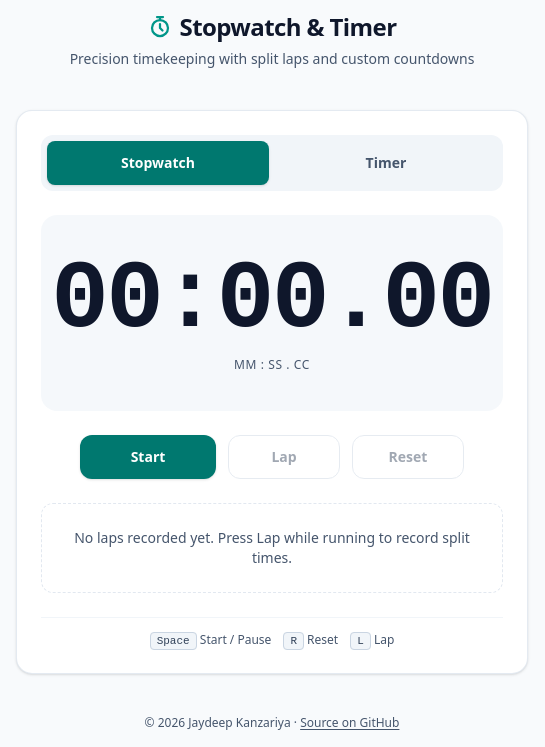
Scenario: stopwatch › records laps newest first and clears them on reset
Click the button "Start": (148, 457) [80,435,216,479]
Wait 1000 ms
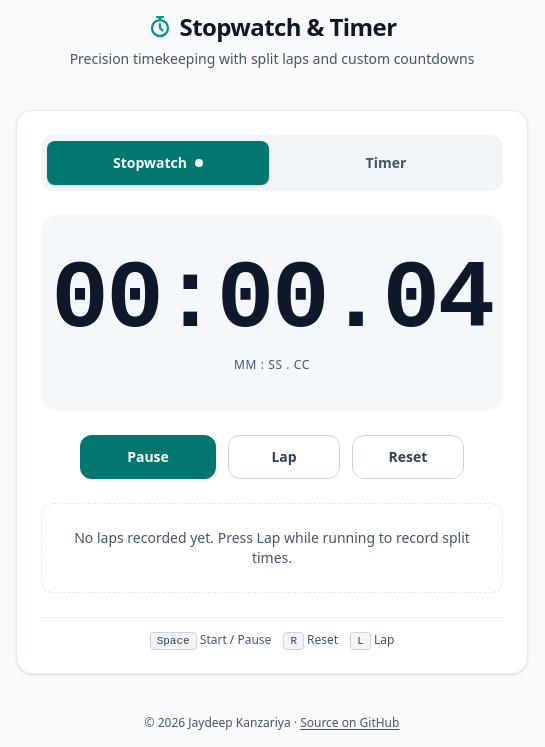
Click the button "Lap": (284, 457) [228,435,340,479]
Wait 2000 ms
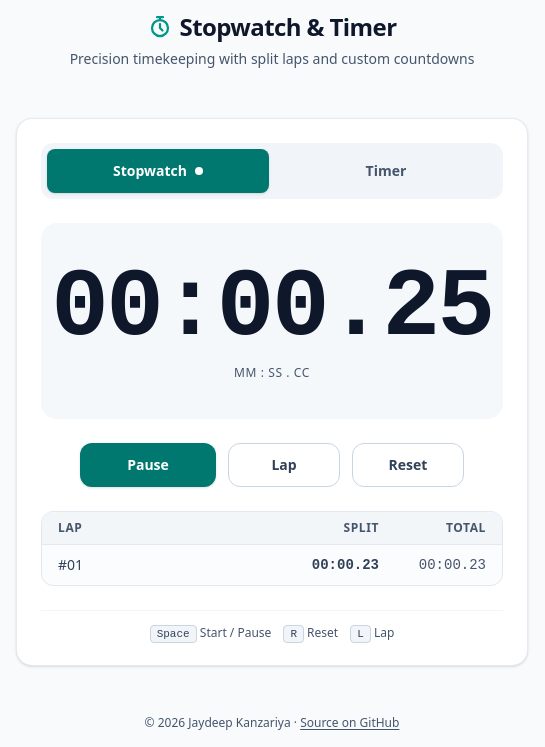
Click the button "Lap": (284, 465) [228,443,340,487]
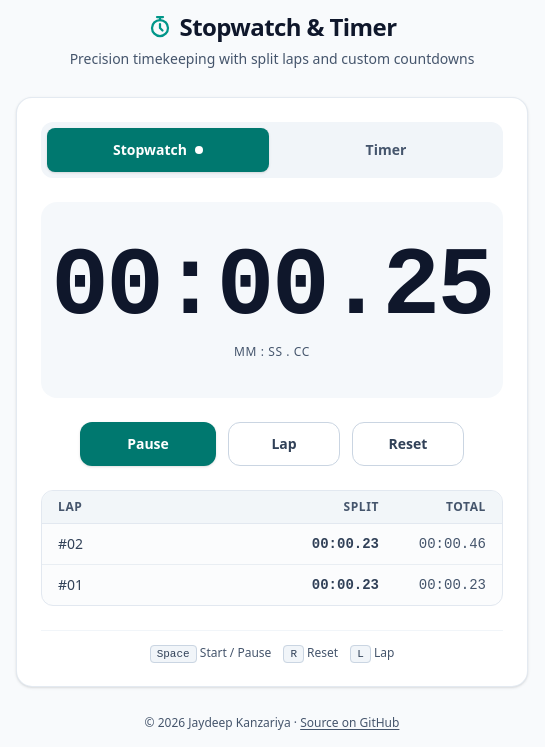
Check: the list item "#01 00:00.23 00:00.23" is shown, box [58,575,486,594]
Check: the number of list items is 2, box [42,524,502,565]; [58,575,486,594]
Check: the list item "#02 00:00.23 00:00.46" is shown, box [42,524,502,565]
Click the button "Reset": (408, 444) [352,422,464,466]
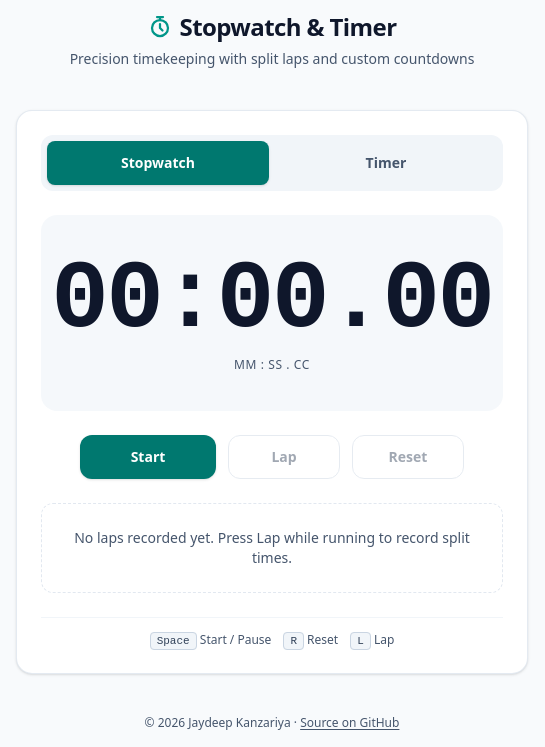
Check: no list items are shown
